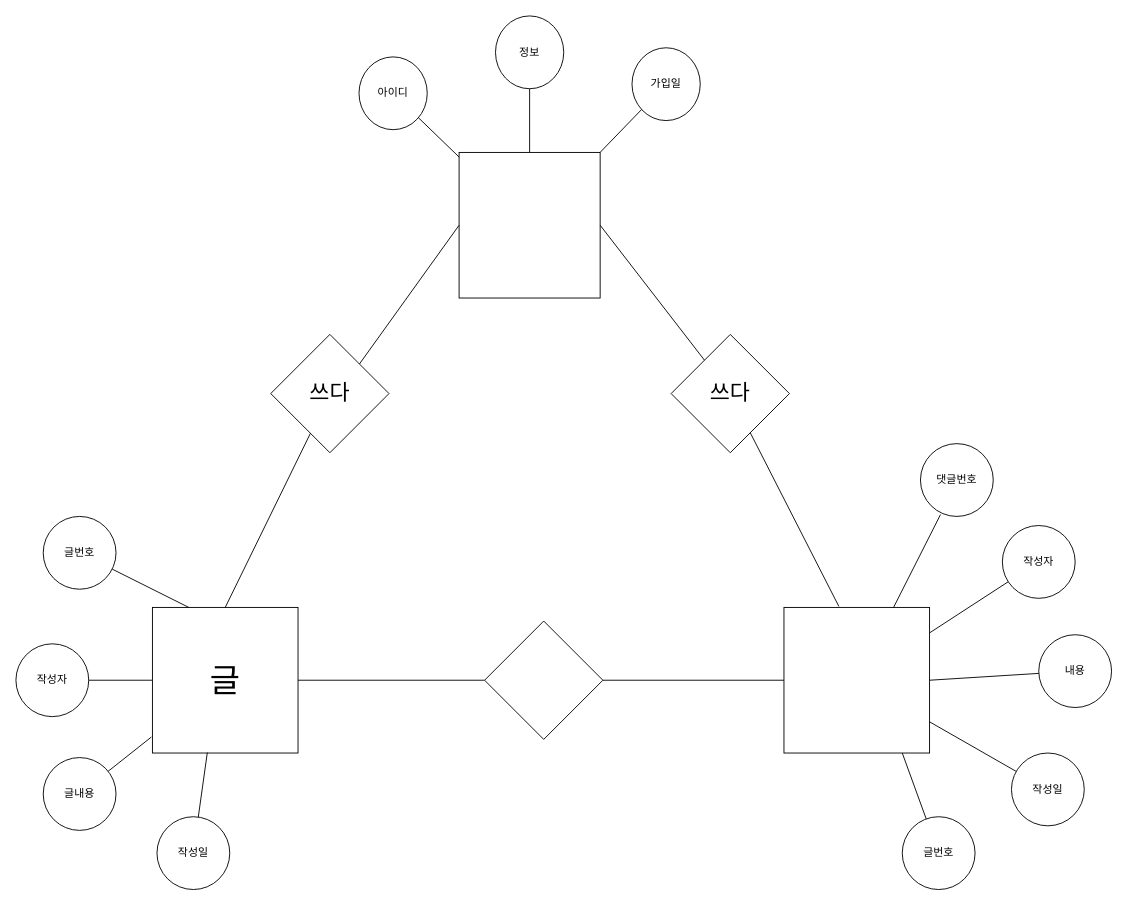
Some shapes in this 1127 by 905 pixel diagram are drawn without their labels. Each missing label, with the centre of its shape:
"댓글" belongs at point (856, 680).
"포함" belongs at point (543, 679).
"회원" belongs at point (529, 225).
